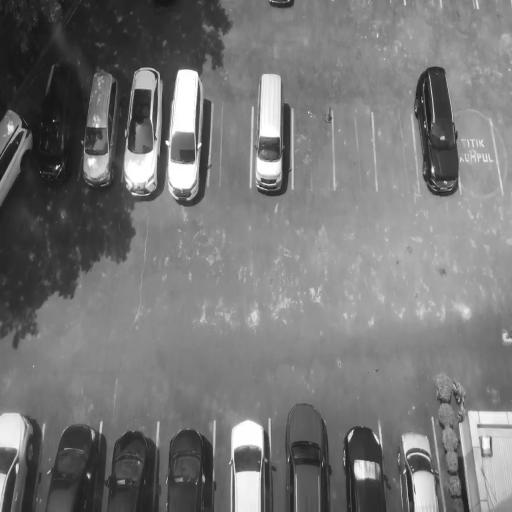Car: (119, 50, 165, 202), (411, 60, 461, 199), (43, 407, 107, 512), (285, 387, 334, 510), (171, 56, 208, 203), (38, 53, 78, 185), (168, 406, 217, 512), (253, 61, 291, 196), (108, 421, 163, 512), (343, 409, 389, 512), (84, 53, 116, 190), (1, 411, 44, 512), (398, 416, 443, 511), (232, 414, 275, 512)
Space Available: (211, 76, 253, 200), (293, 72, 334, 196), (375, 62, 414, 190), (335, 80, 373, 194), (460, 90, 498, 192)
